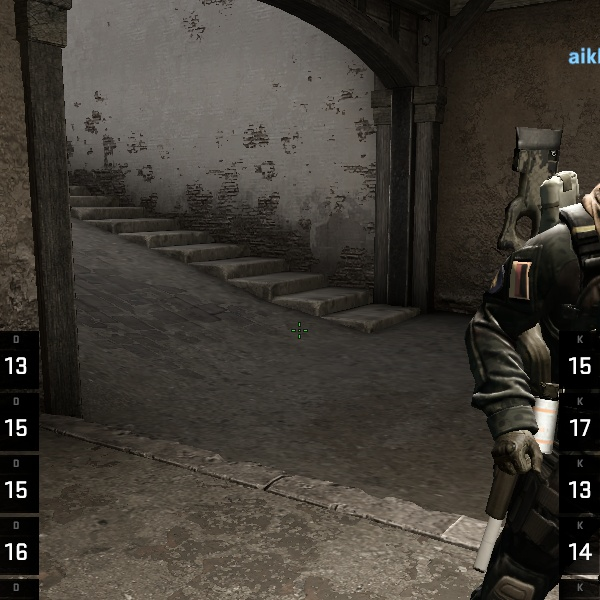ct_body: (437, 75, 598, 600)
